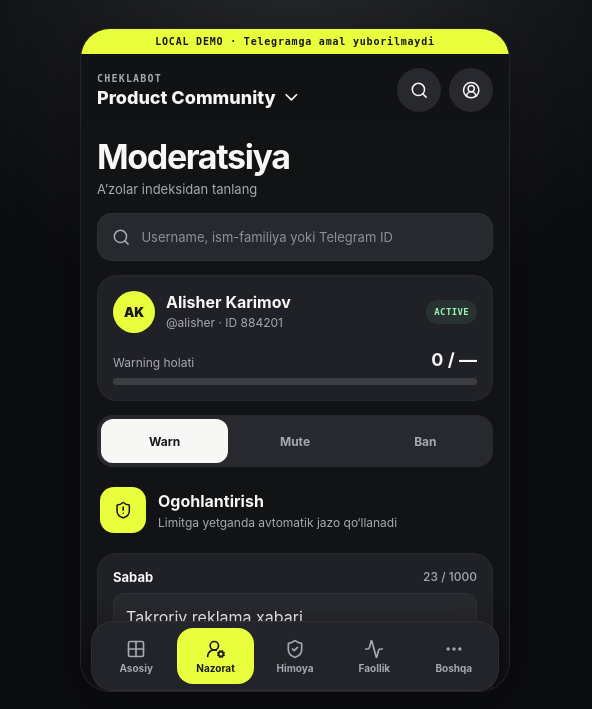
Scenario: AppShell interactions › clears the selected member when the active group changes
Expected: the text "Alisher Karimov" is shown, [166,292,291,312]
What coordinates should you click on to do the following:
click the button with aria-label "Guruhni almashtirish"
I would click on:
 (199, 97)
Its box is [97,86,301,108].
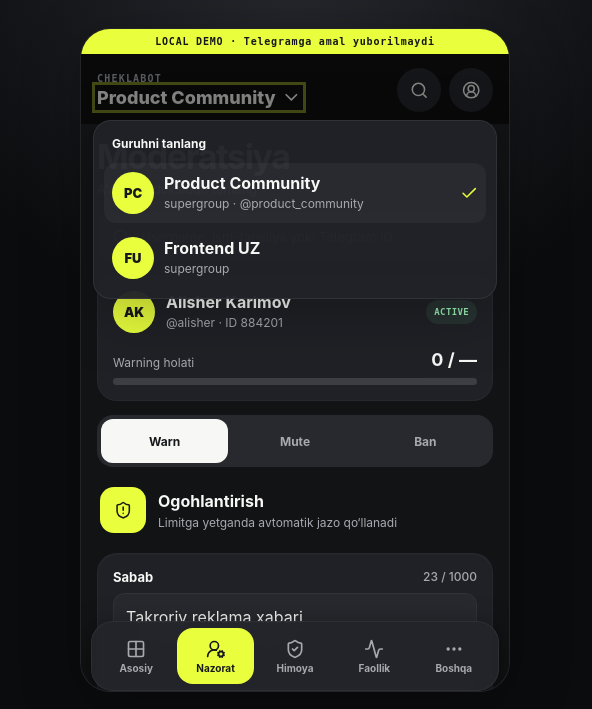
What coordinates should you click on to do the following:
click the option "FU Frontend UZ supergroup"
I would click on:
 (133, 258)
Its box is [104,228,486,288].
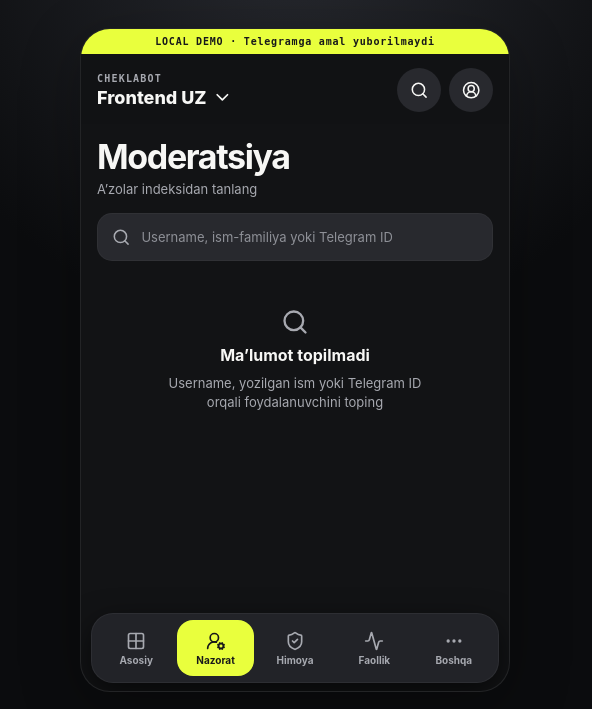
Now the text "Username, yozilgan ism yoki Telegram ID orqali foydalanuvchini toping" is shown, box [155,374,435,412]
Now the text "Alisher Karimov" is gone
